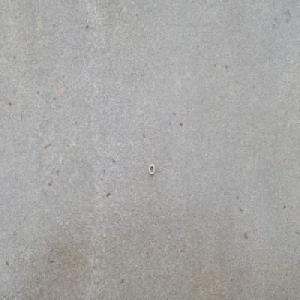Nut: (148, 163, 155, 175)
